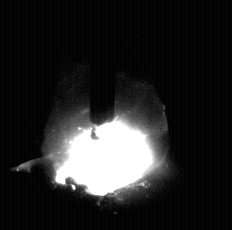arame: (91, 0, 115, 125)
poca: (44, 0, 168, 230)
